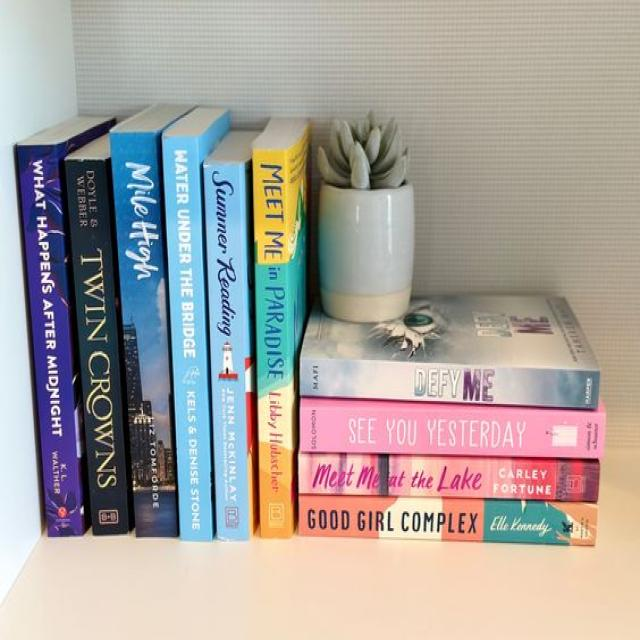book: (108, 131, 176, 543), (65, 132, 130, 534), (17, 145, 83, 535), (162, 135, 212, 541), (205, 162, 255, 540), (300, 398, 605, 458), (300, 356, 599, 410), (253, 148, 293, 539), (298, 495, 597, 545), (300, 452, 598, 502)
plants: (318, 117, 414, 322)
